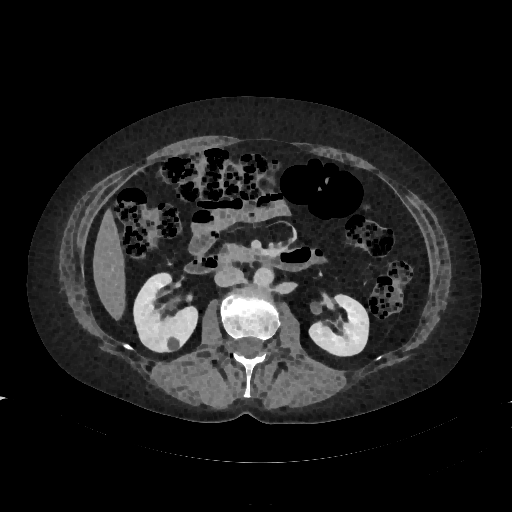Lesion: (163, 333, 181, 354)
